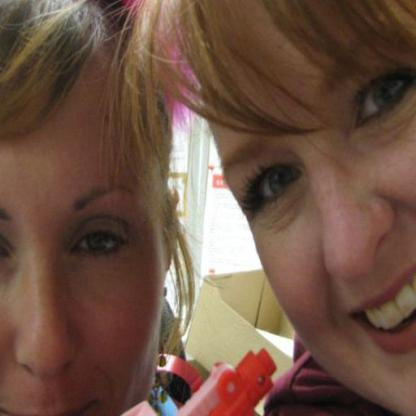gun: (0, 347, 279, 415)
